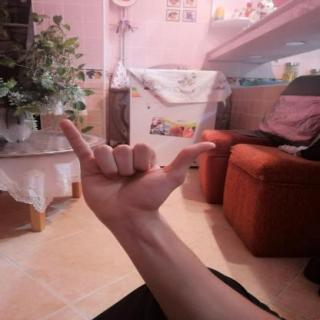YA: (48, 110, 227, 230)
